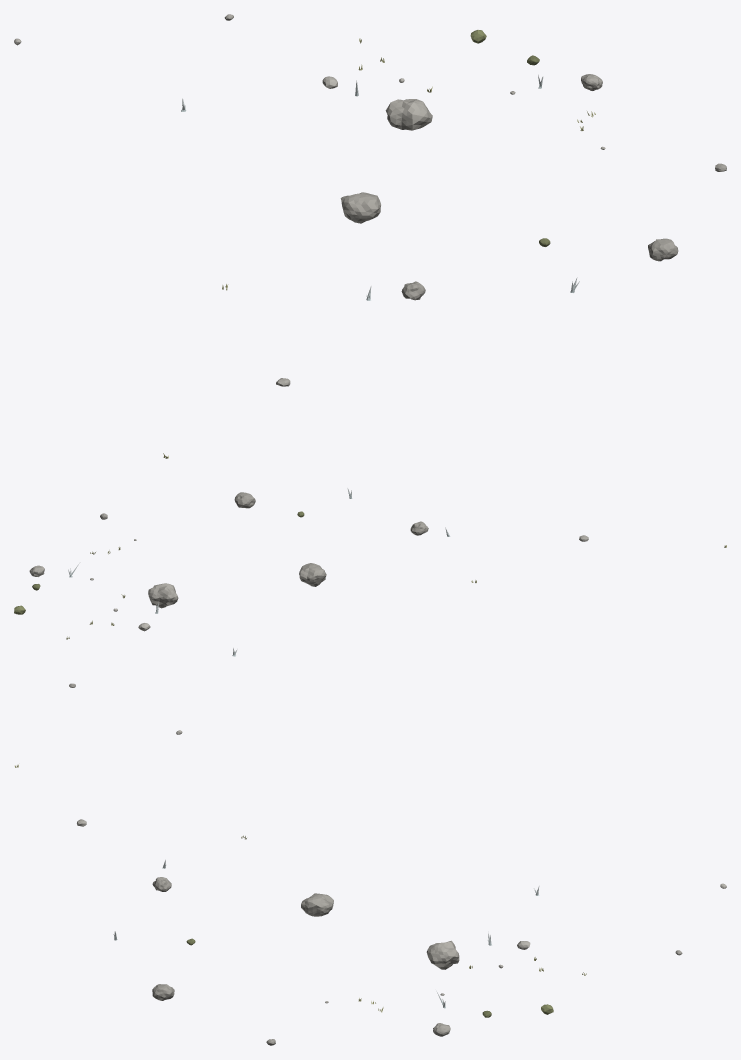
The model's file is coast_land_scatter_c12_16.glb.
3 renders of one model, top to bottom at view 1: azimuth 30°, elevation 25°; view 2: azimuth 150°, elevation 25°; view 3: azimuth 270°, elevation 25°, orthographic. The views are drawn at different scales.
Visible parts, largest first — view 1: coast_land_scatter_c12_16; view 2: coast_land_scatter_c12_16; view 3: coast_land_scatter_c12_16.
Boxes of the visible parts, x1,y1,x2,y2 form: coast_land_scatter_c12_16: [14, 14, 726, 458]; coast_land_scatter_c12_16: [14, 488, 726, 734]; coast_land_scatter_c12_16: [15, 764, 726, 1045].
Bounding box in the file's own units: 112 × 6.61 × 124.
